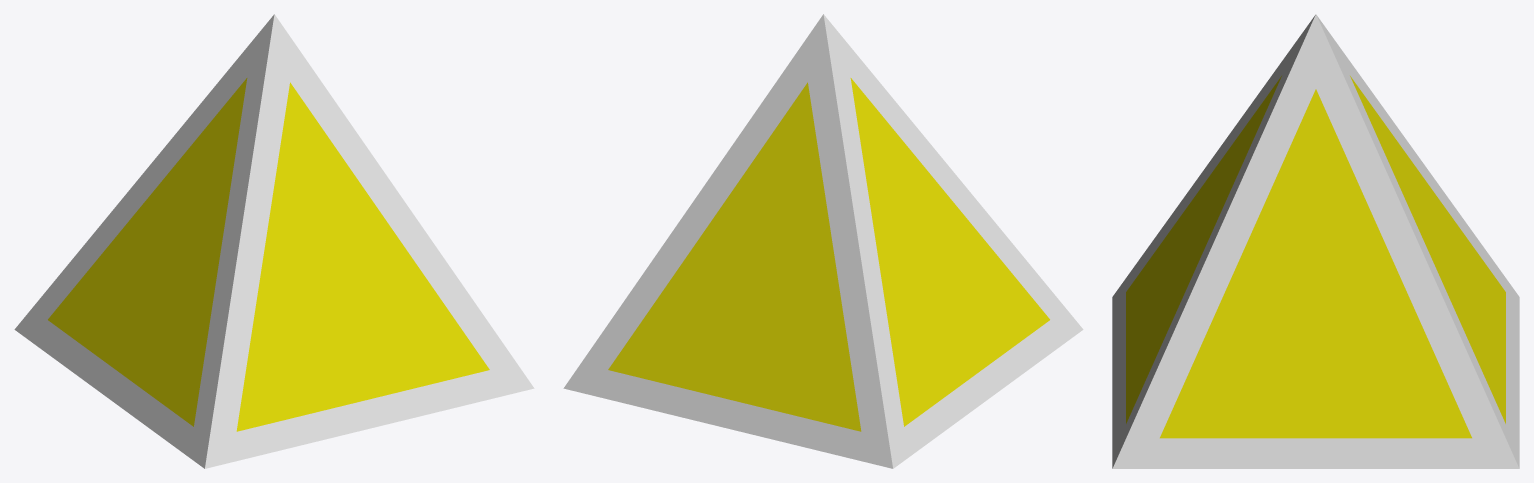
3 renders of one model, left to right at view 1: azimuth 30°, elevation 25°; view 2: azimuth 150°, elevation 25°; view 3: azimuth 270°, elevation 25°, orthographic. The views are drawn at different scales.
Parts seen in each view (by area): view 1: cone; view 2: cone; view 3: cone.
Boxes of the visible parts, x1,y1,x2,y2 form: cone: [14, 14, 534, 468]; cone: [563, 14, 1083, 468]; cone: [1112, 14, 1519, 468].
Bounding box in the file's own units: 2 × 2 × 2.
